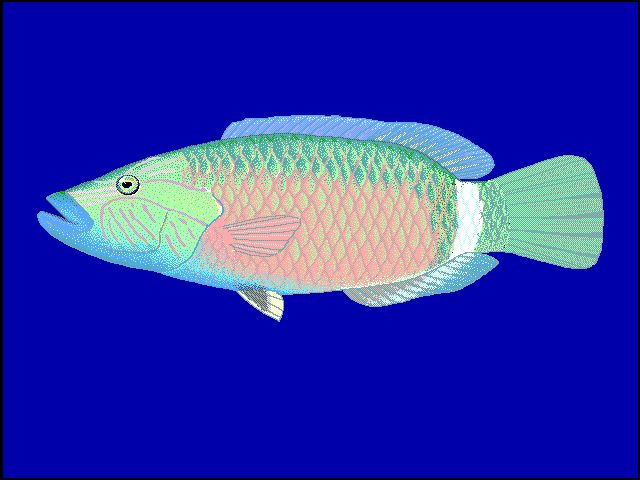fish: (36, 115, 604, 321)
